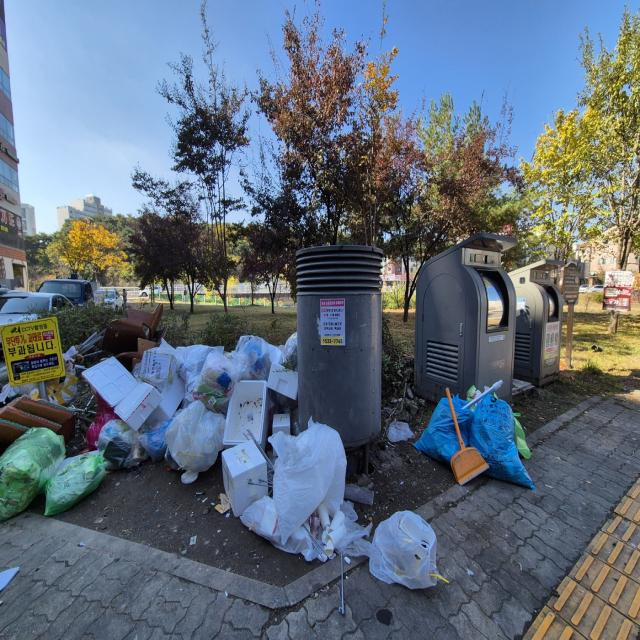CleanNet: (412, 223, 521, 424), (505, 252, 574, 390)
General Waste: (139, 334, 308, 484), (221, 378, 349, 555), (357, 511, 468, 607), (0, 424, 82, 526), (468, 390, 528, 497), (34, 443, 109, 518), (416, 385, 474, 473)
Large Waste Items: (96, 301, 173, 374)
